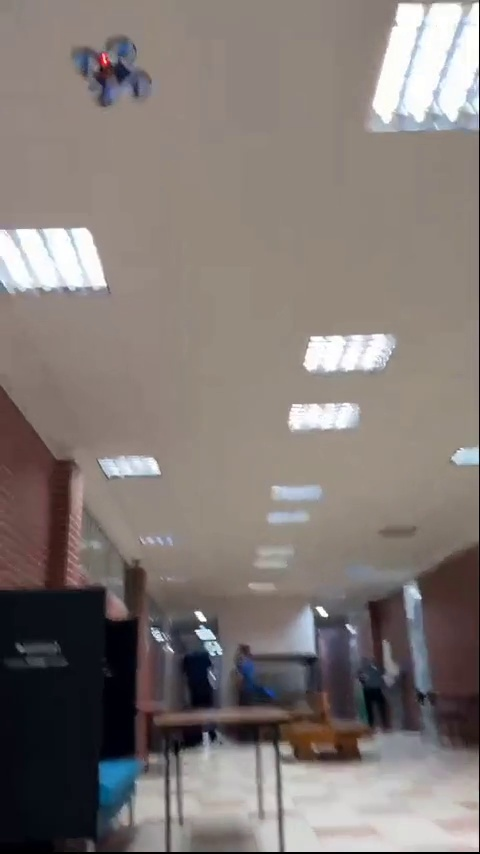drone: (68, 34, 150, 108)
no vest: (186, 644, 224, 751), (357, 650, 391, 731), (234, 643, 262, 715)
